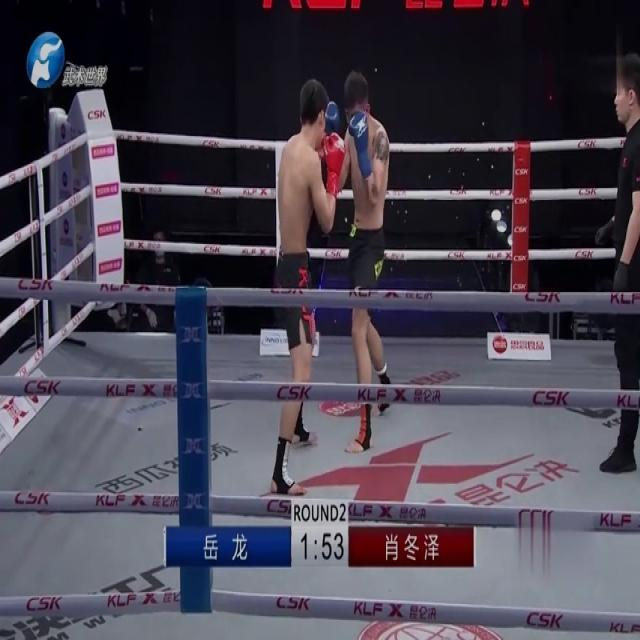fight: (267, 68, 393, 497)
non-fight: (598, 40, 640, 480)
